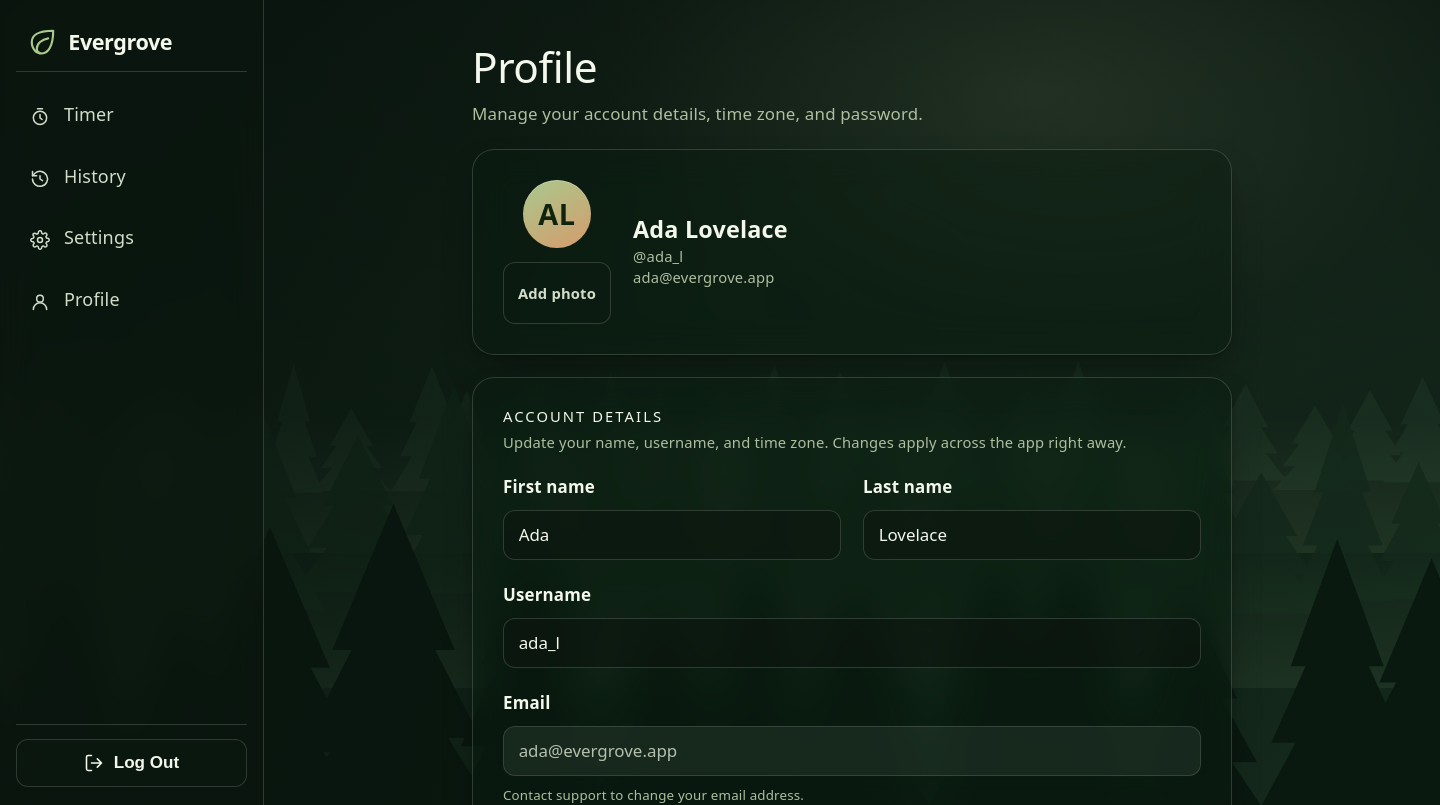
Test: Suite J3 — Editing and client-side validation › J3.1 — enables the actions only once something has changed, and Cancel puts it back
Replace the text in the field labelled "First name" with "Augusta". click: point(672, 535)
box: [519,511,825,559]
(page scrolled)
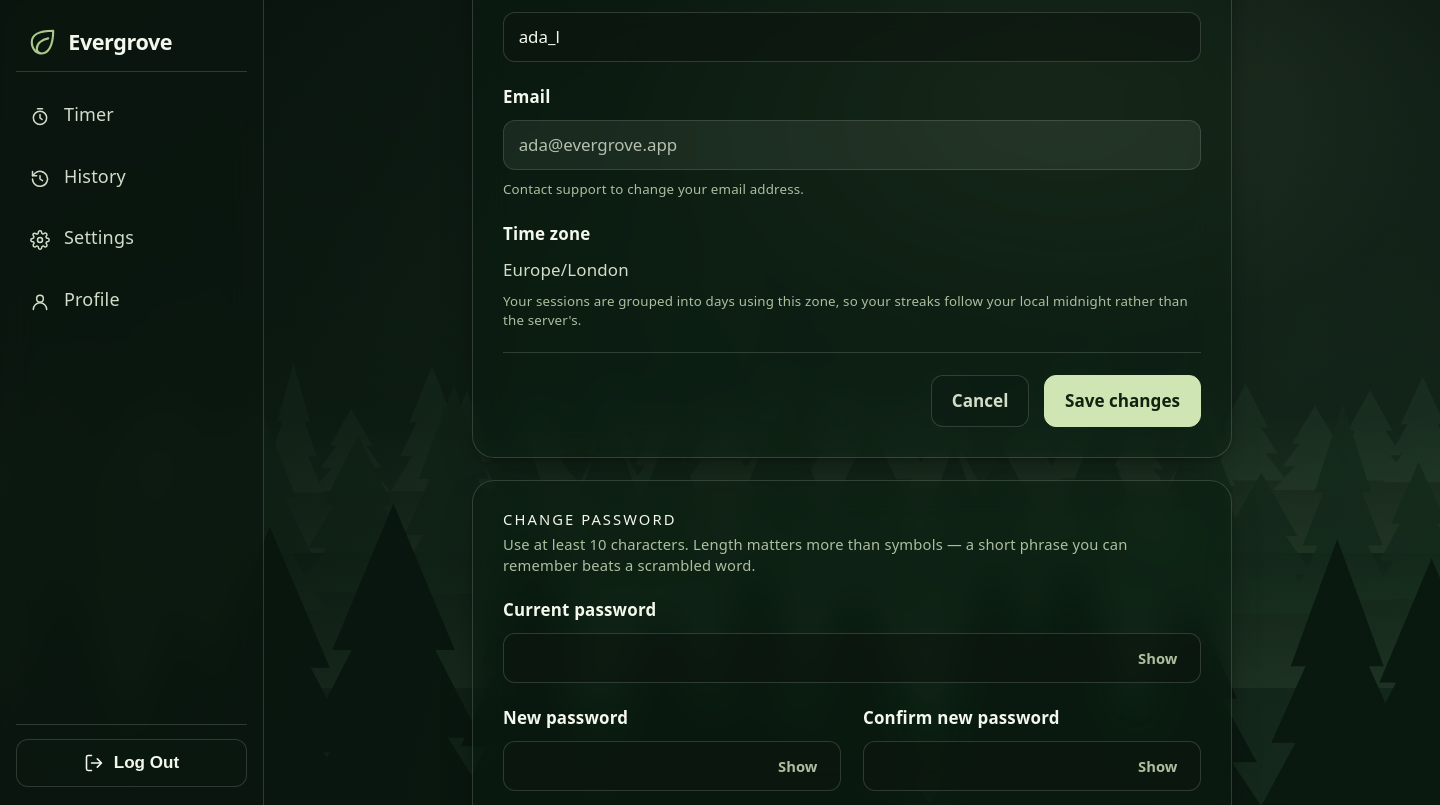
expect the button "Save changes" is enabled: met, box [1044,375,1201,427]
Click the button "Cancel". click: point(980, 401)
box: [931,375,1029,427]
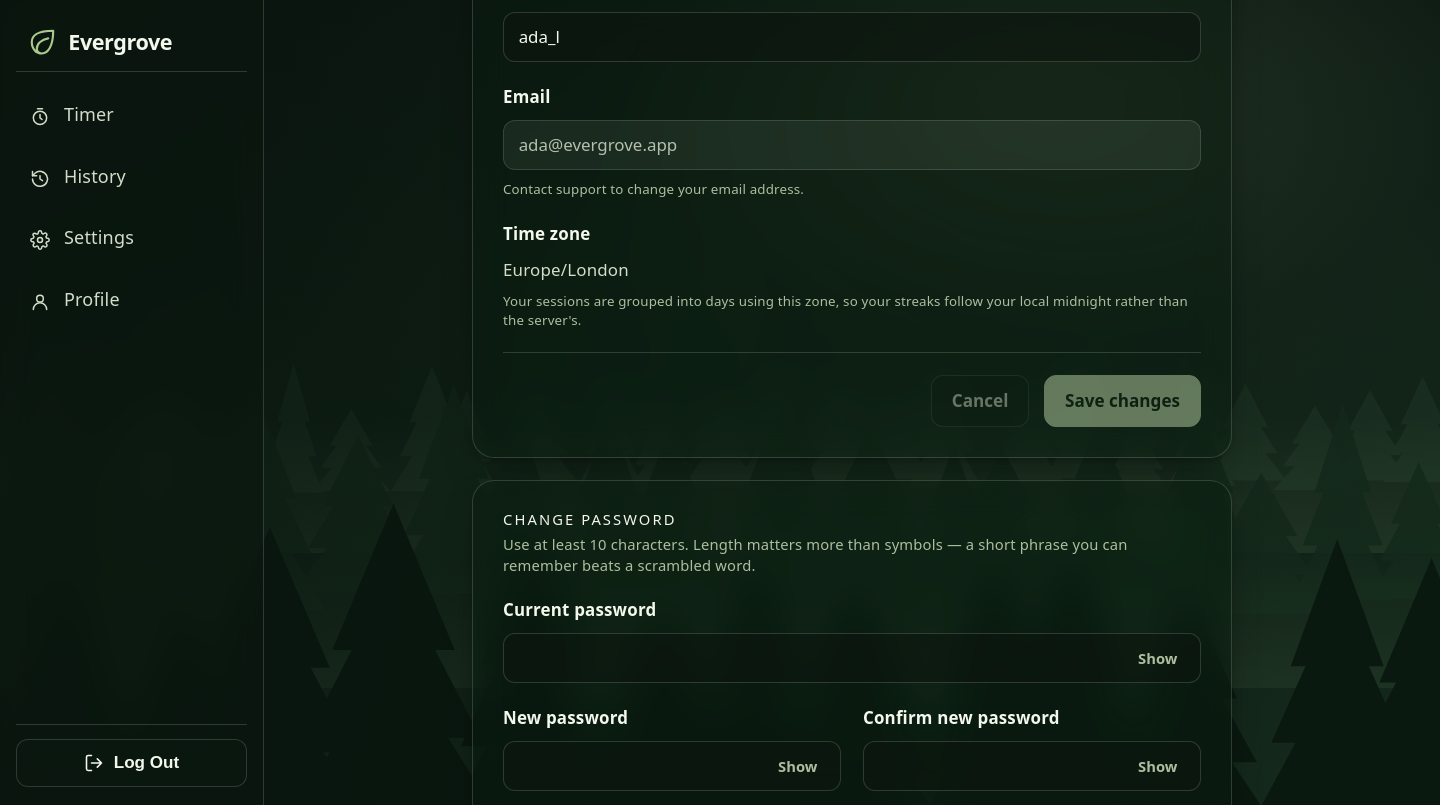
expect the button "Save changes" is disabled: met, box [1044,375,1201,427]
